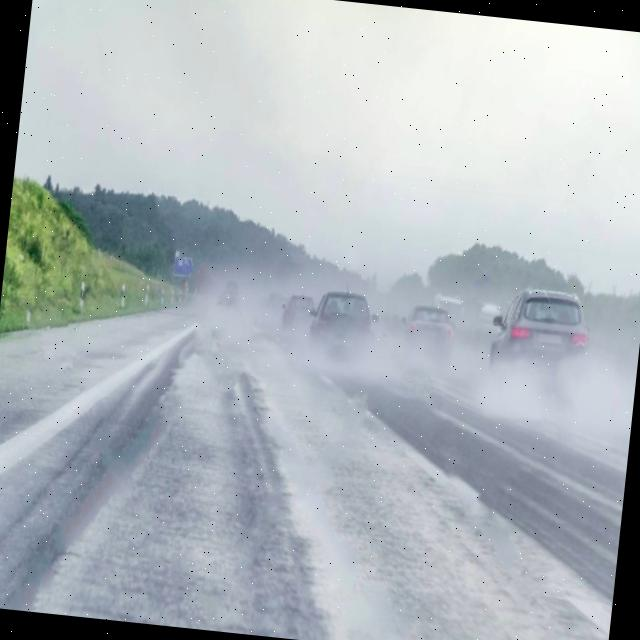bus: (405, 294, 464, 322), (220, 276, 242, 312), (472, 302, 501, 326)
car: (488, 285, 594, 388), (306, 288, 382, 358), (398, 304, 458, 363), (280, 288, 317, 331), (264, 290, 284, 312)
